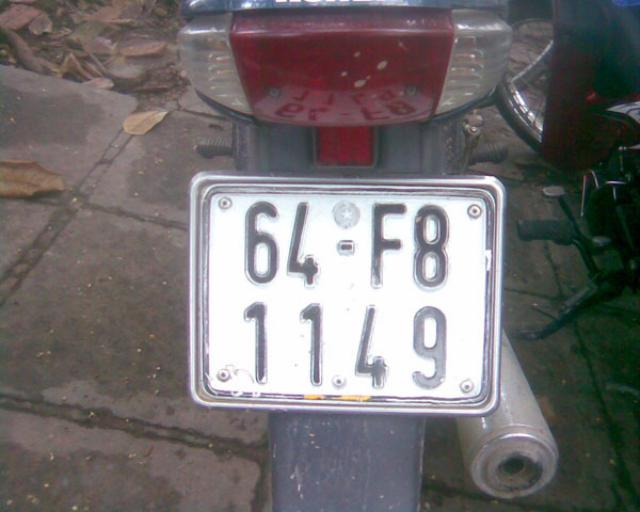plate: (183, 168, 503, 410)
